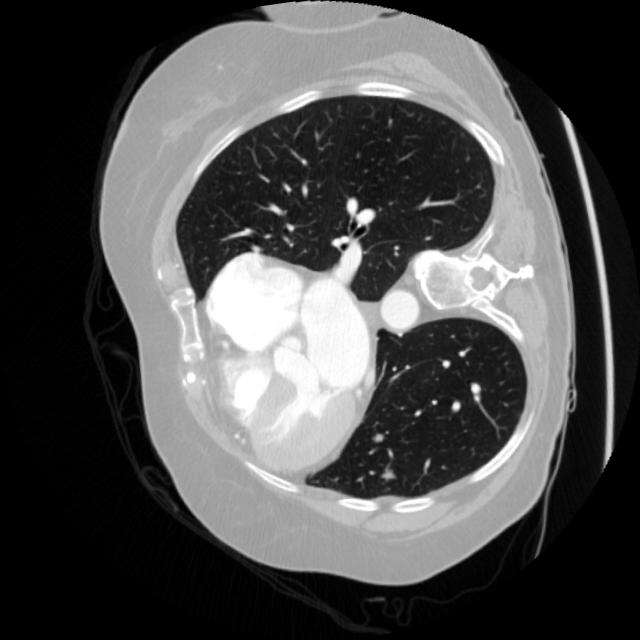nodule: (360, 419, 392, 452)
